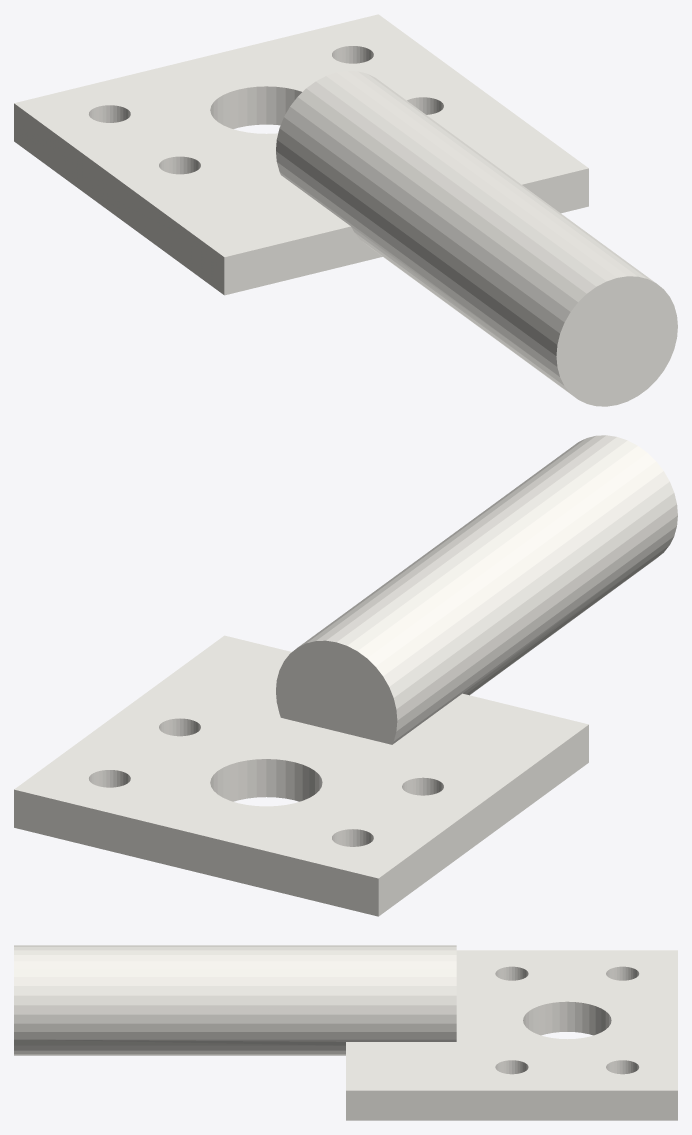
Rendered from left_rocker_link_diff_link.dae.
The picture shows the model from 3 angles, top to bottom: view 1: azimuth 30°, elevation 25°; view 2: azimuth 150°, elevation 25°; view 3: azimuth 270°, elevation 25°; orthographic projection. The views are drawn at different scales.
Visible parts, largest first — view 1: l_rocker_link_-_diff_link_pale-1; view 2: l_rocker_link_-_diff_link_pale-1; view 3: l_rocker_link_-_diff_link_pale-1.
Boxes of the visible parts, <box> form: l_rocker_link_-_diff_link_pale-1: <box>14,14,677,406</box>; l_rocker_link_-_diff_link_pale-1: <box>14,435,677,916</box>; l_rocker_link_-_diff_link_pale-1: <box>14,945,677,1120</box>.
Bounding box in the file's own units: 0.03 × 0.06 × 0.01.
1 material, 1 textured.
